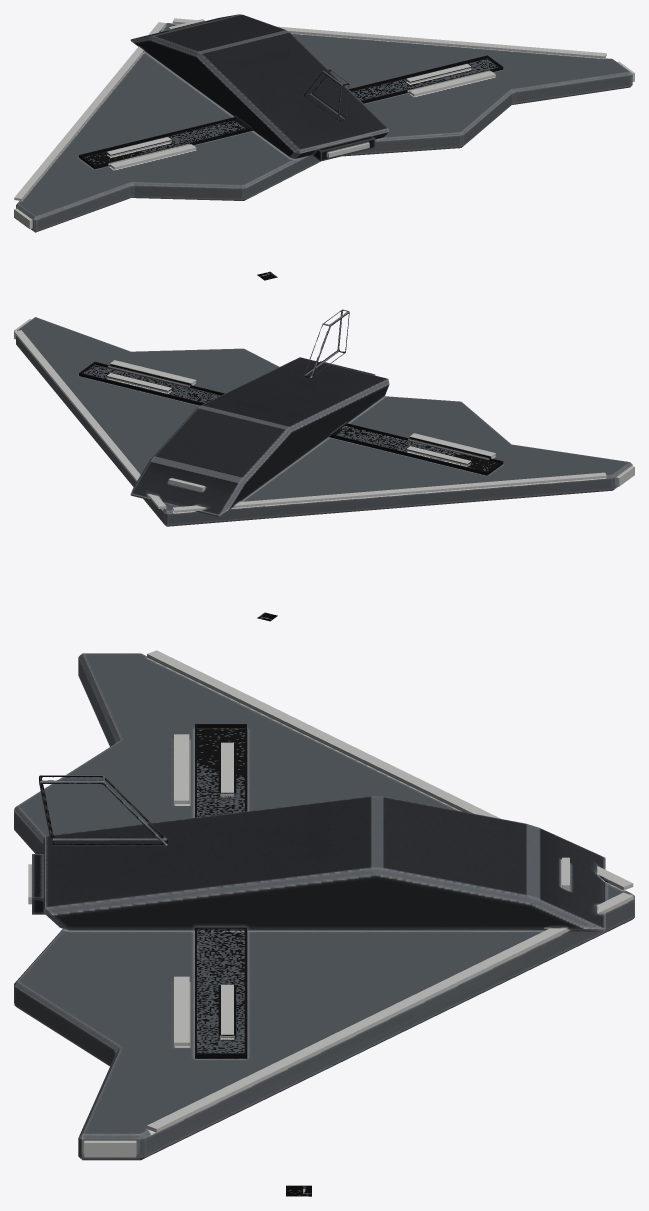
File: chs_wraith.fbx
The picture shows the model from 3 angles, top to bottom: view 1: azimuth 30°, elevation 25°; view 2: azimuth 150°, elevation 25°; view 3: azimuth 270°, elevation 25°; orthographic projection. The views are drawn at different scales.
Visible parts, largest first — view 1: base_bar, base_glow_running_bar, base_glow_power_bar; view 2: base_bar, base_glow_running_bar, base_glow_power_bar; view 3: base_bar, base_glow_running_bar, base_glow_power_bar.
Part boxes in pixels (x1,y1,x2,y2): base_bar: [16, 14, 632, 232]; base_glow_running_bar: [14, 18, 634, 228]; base_glow_power_bar: [106, 63, 495, 169]; base_bar: [16, 309, 632, 526]; base_glow_running_bar: [14, 319, 634, 512]; base_glow_power_bar: [106, 360, 495, 465]; base_bar: [14, 653, 634, 1160]; base_glow_running_bar: [28, 650, 633, 1157]; base_glow_power_bar: [174, 734, 233, 1045].
Size of the model in its own units: 889 by 350 by 477.
2 materials, 2 textured.
